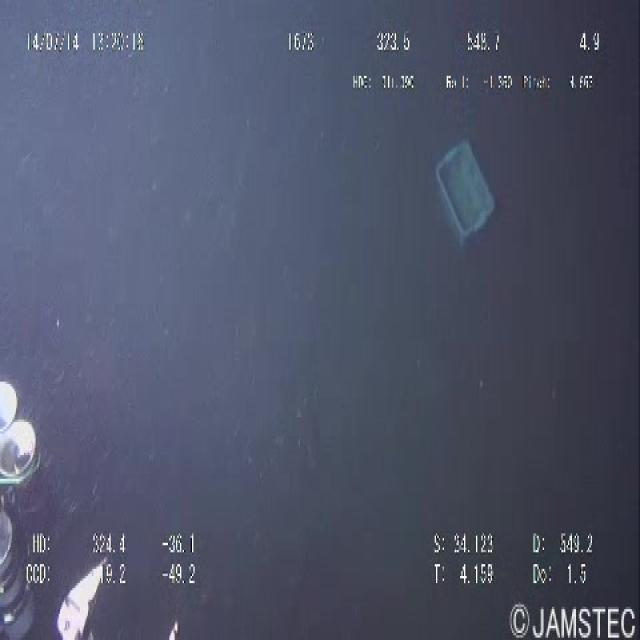plastic: (427, 135, 504, 251)
